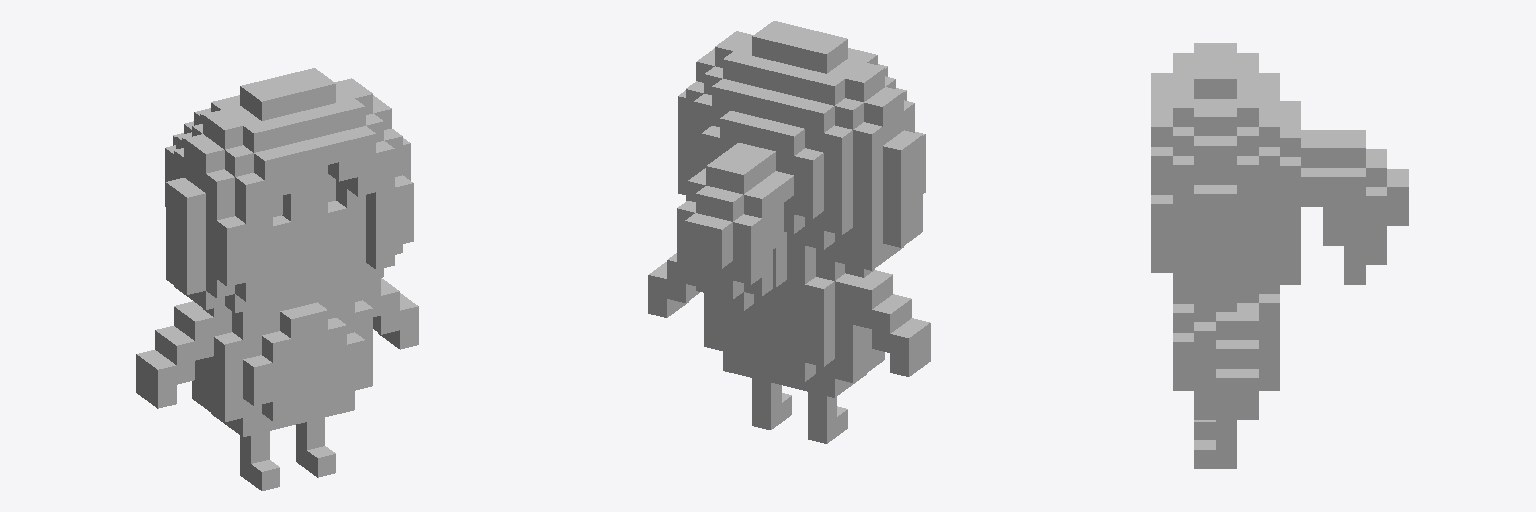
File: Doll.obj
The picture shows the model from 3 angles: view 1: azimuth 30°, elevation 25°; view 2: azimuth 150°, elevation 25°; view 3: azimuth 270°, elevation 25°; orthographic projection.
Parts seen in each view (by area): view 1: object 1; view 2: object 1; view 3: object 1.
Boxes of the visible parts, x1,y1,x2,y2 form: object 1: [136, 68, 418, 490]; object 1: [648, 21, 930, 443]; object 1: [1151, 43, 1408, 468].
Size of the model in its own units: 1.4 by 2 by 1.2.